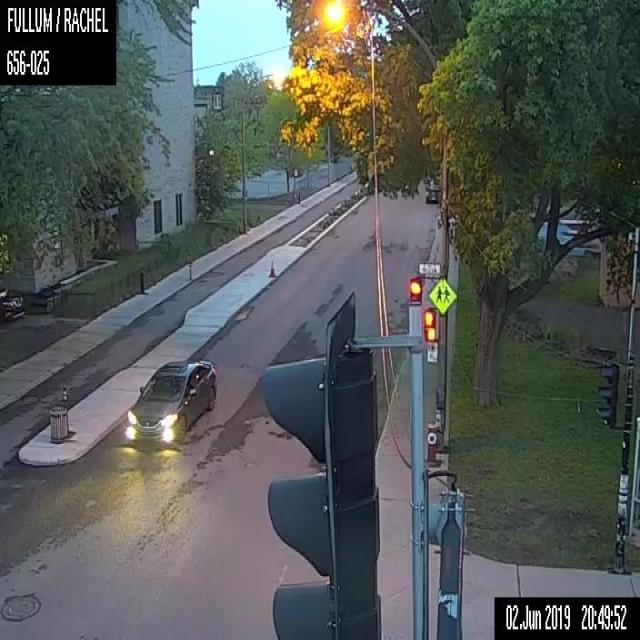construction: (267, 259, 276, 276)
vehicle: (124, 359, 216, 443), (0, 285, 24, 320), (424, 185, 441, 202), (428, 176, 441, 187)
